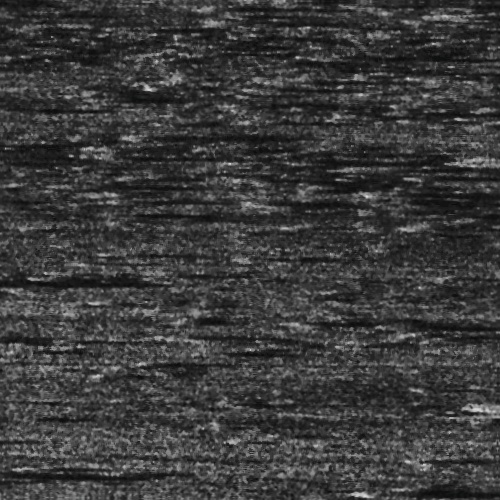object: (396, 5, 500, 18), (0, 466, 72, 483), (362, 482, 415, 497), (449, 149, 500, 162), (275, 49, 328, 56), (346, 319, 419, 324), (145, 132, 186, 139), (96, 143, 127, 152), (477, 398, 500, 409), (0, 106, 34, 113), (373, 189, 414, 192)
shadow: (15, 466, 193, 483), (389, 482, 500, 497), (302, 49, 493, 56), (0, 278, 142, 287), (165, 132, 341, 139), (0, 106, 89, 113), (453, 5, 500, 18), (111, 143, 178, 152), (0, 461, 45, 474), (383, 319, 486, 324), (394, 189, 500, 192)
